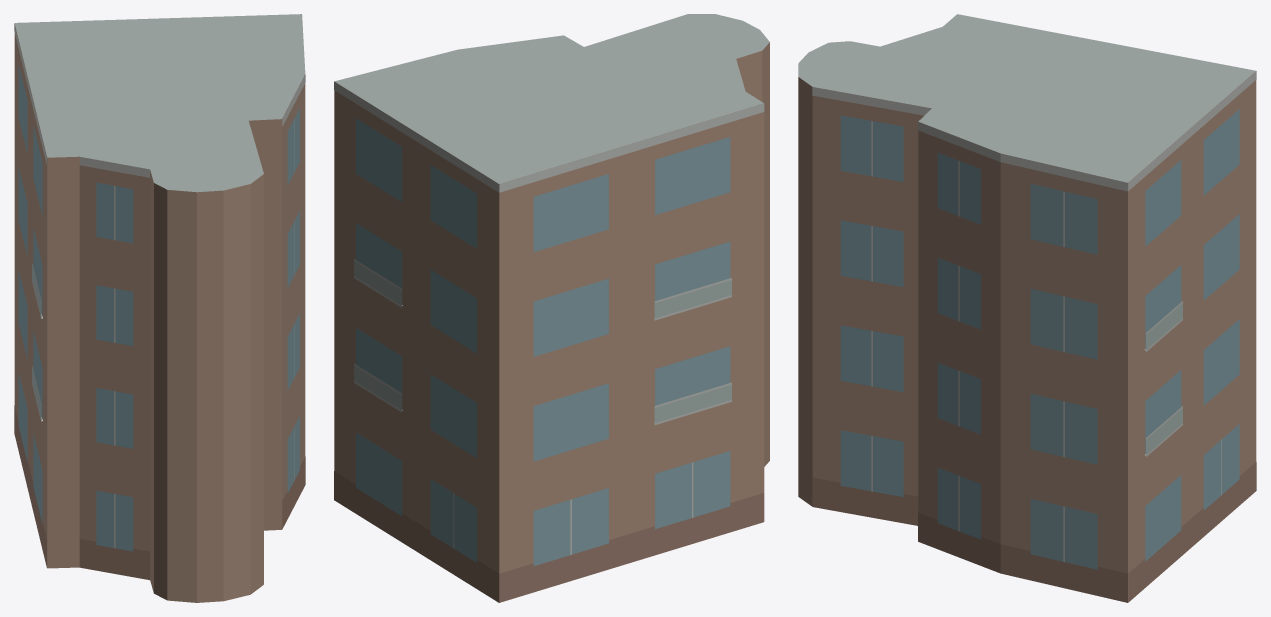
Rendered from survey-upis-32723671.glb.
The picture shows the model from 3 angles, left to right: view 1: azimuth 30°, elevation 25°; view 2: azimuth 150°, elevation 25°; view 3: azimuth 270°, elevation 25°; orthographic projection. The views are drawn at different scales.
Parts seen in each view (by area): view 1: survey-upis-32723671.tmp; view 2: survey-upis-32723671.tmp; view 3: survey-upis-32723671.tmp.
Part boxes in pixels (<box>): survey-upis-32723671.tmp: <box>14,14,305,602</box>; survey-upis-32723671.tmp: <box>334,14,769,602</box>; survey-upis-32723671.tmp: <box>798,14,1256,602</box>.
Size of the model in its own units: 10.18 by 11.8 by 11.67.
